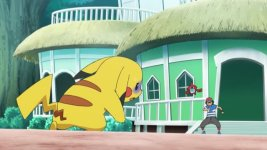pikachu: (15, 51, 147, 136)
